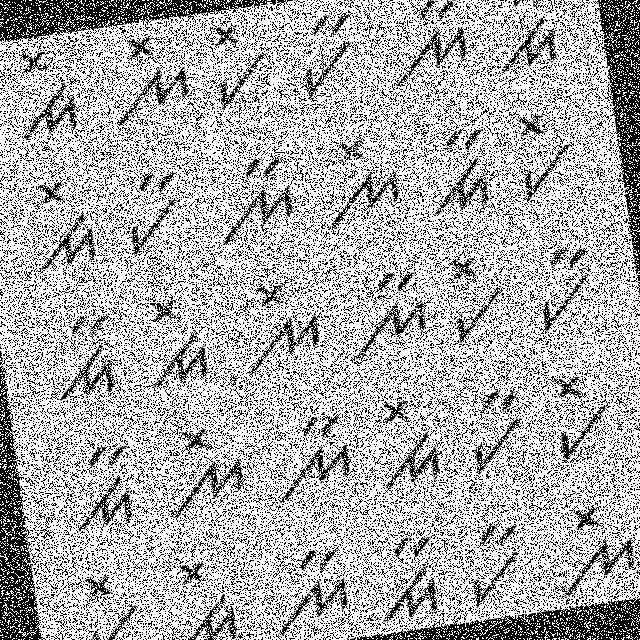dan: (57, 434, 151, 548), (414, 118, 501, 225), (44, 306, 128, 412), (368, 522, 450, 630), (491, 0, 572, 82)
do: (22, 168, 110, 278), (0, 40, 87, 150), (366, 381, 451, 492), (135, 284, 222, 392), (164, 547, 251, 639)
nan: (204, 143, 300, 254), (379, 0, 481, 99), (260, 540, 361, 639), (268, 404, 359, 509), (342, 266, 436, 364)
no: (150, 411, 256, 524), (92, 25, 198, 138), (310, 126, 410, 236), (231, 269, 328, 377), (552, 496, 639, 604)
pan: (519, 234, 609, 336), (109, 159, 198, 260), (453, 511, 535, 614), (286, 4, 368, 102), (456, 379, 536, 476)
po: (540, 362, 622, 472), (432, 248, 516, 348), (504, 102, 584, 206), (202, 14, 276, 116), (67, 563, 154, 639)
